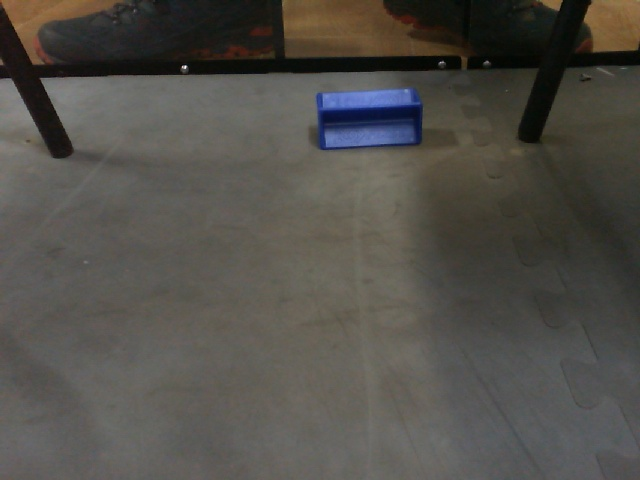BlueSample: (314, 88, 425, 150)
